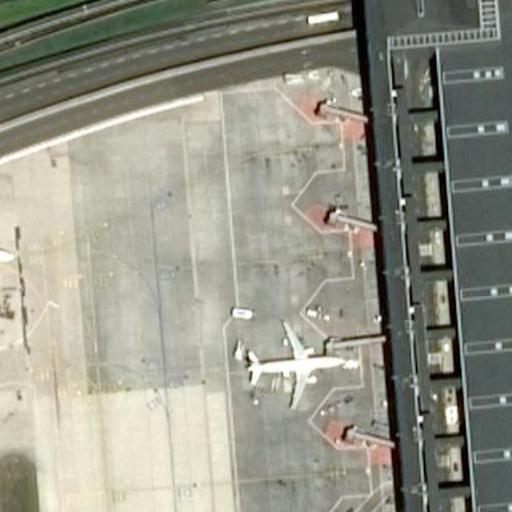Aircraft: (238, 318, 356, 411), (0, 207, 18, 293)
